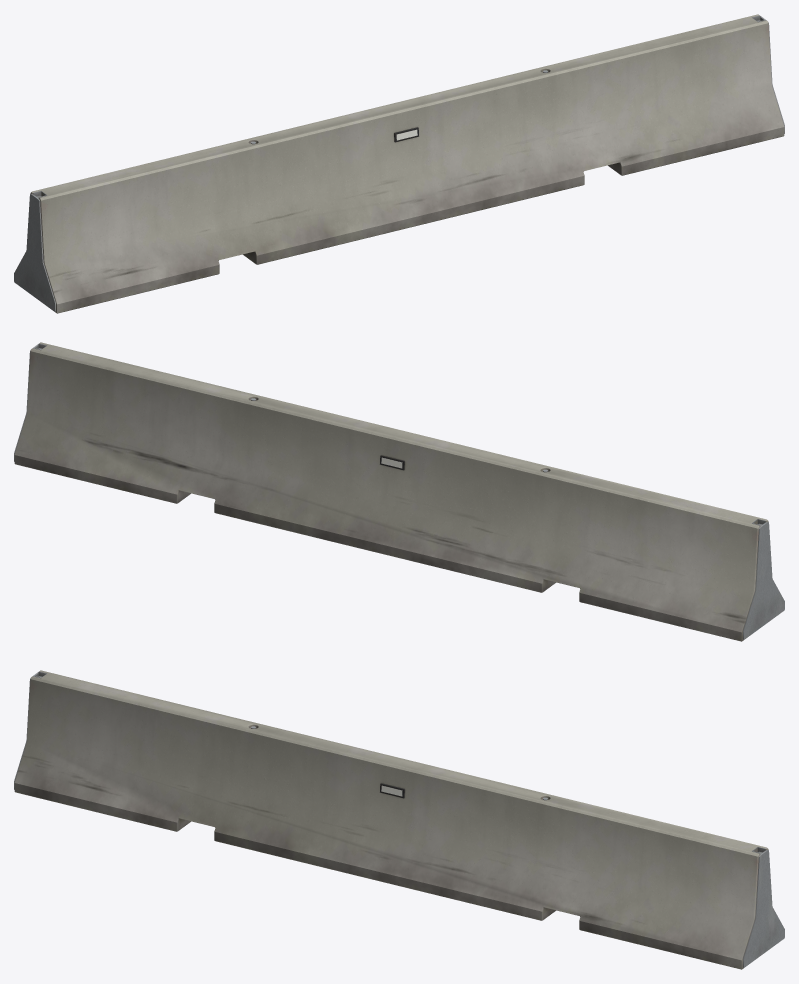
File: concrete.glb
3 renders of one model, top to bottom at view 1: azimuth 30°, elevation 25°; view 2: azimuth 150°, elevation 25°; view 3: azimuth 330°, elevation 25°, orthographic.
Visible parts, largest first — view 1: concrete-barrier_body; view 2: concrete-barrier_body; view 3: concrete-barrier_body.
Part boxes in pixels (x1=…): concrete-barrier_body: x1=14, y1=14, x2=784, y2=313; concrete-barrier_body: x1=14, y1=342, x2=784, y2=641; concrete-barrier_body: x1=14, y1=670, x2=784, y2=969.
Bounding box in the file's own units: 6 × 0.8128 × 0.6096.
Materials: 1 (1 with a texture image).
